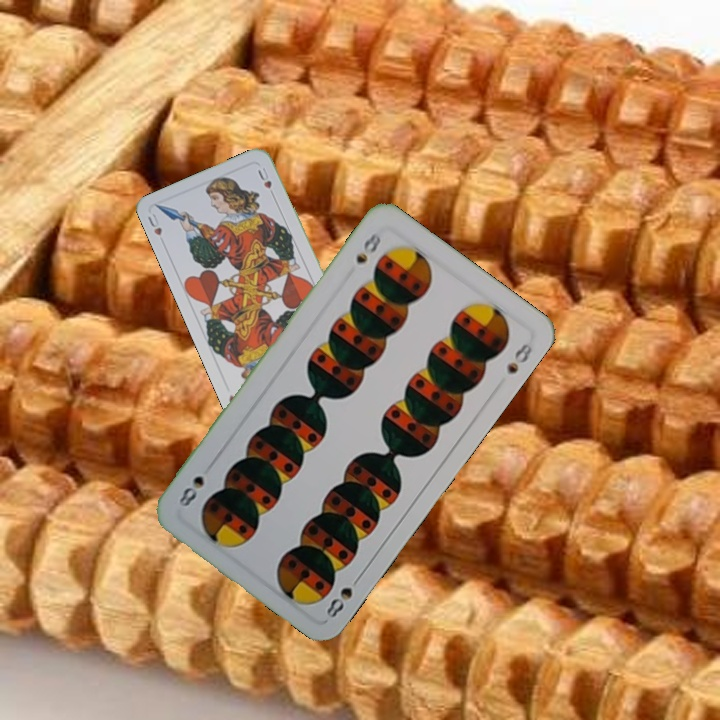HU: (143, 209, 164, 238)
S8: (322, 570, 365, 621), (351, 227, 384, 267)
